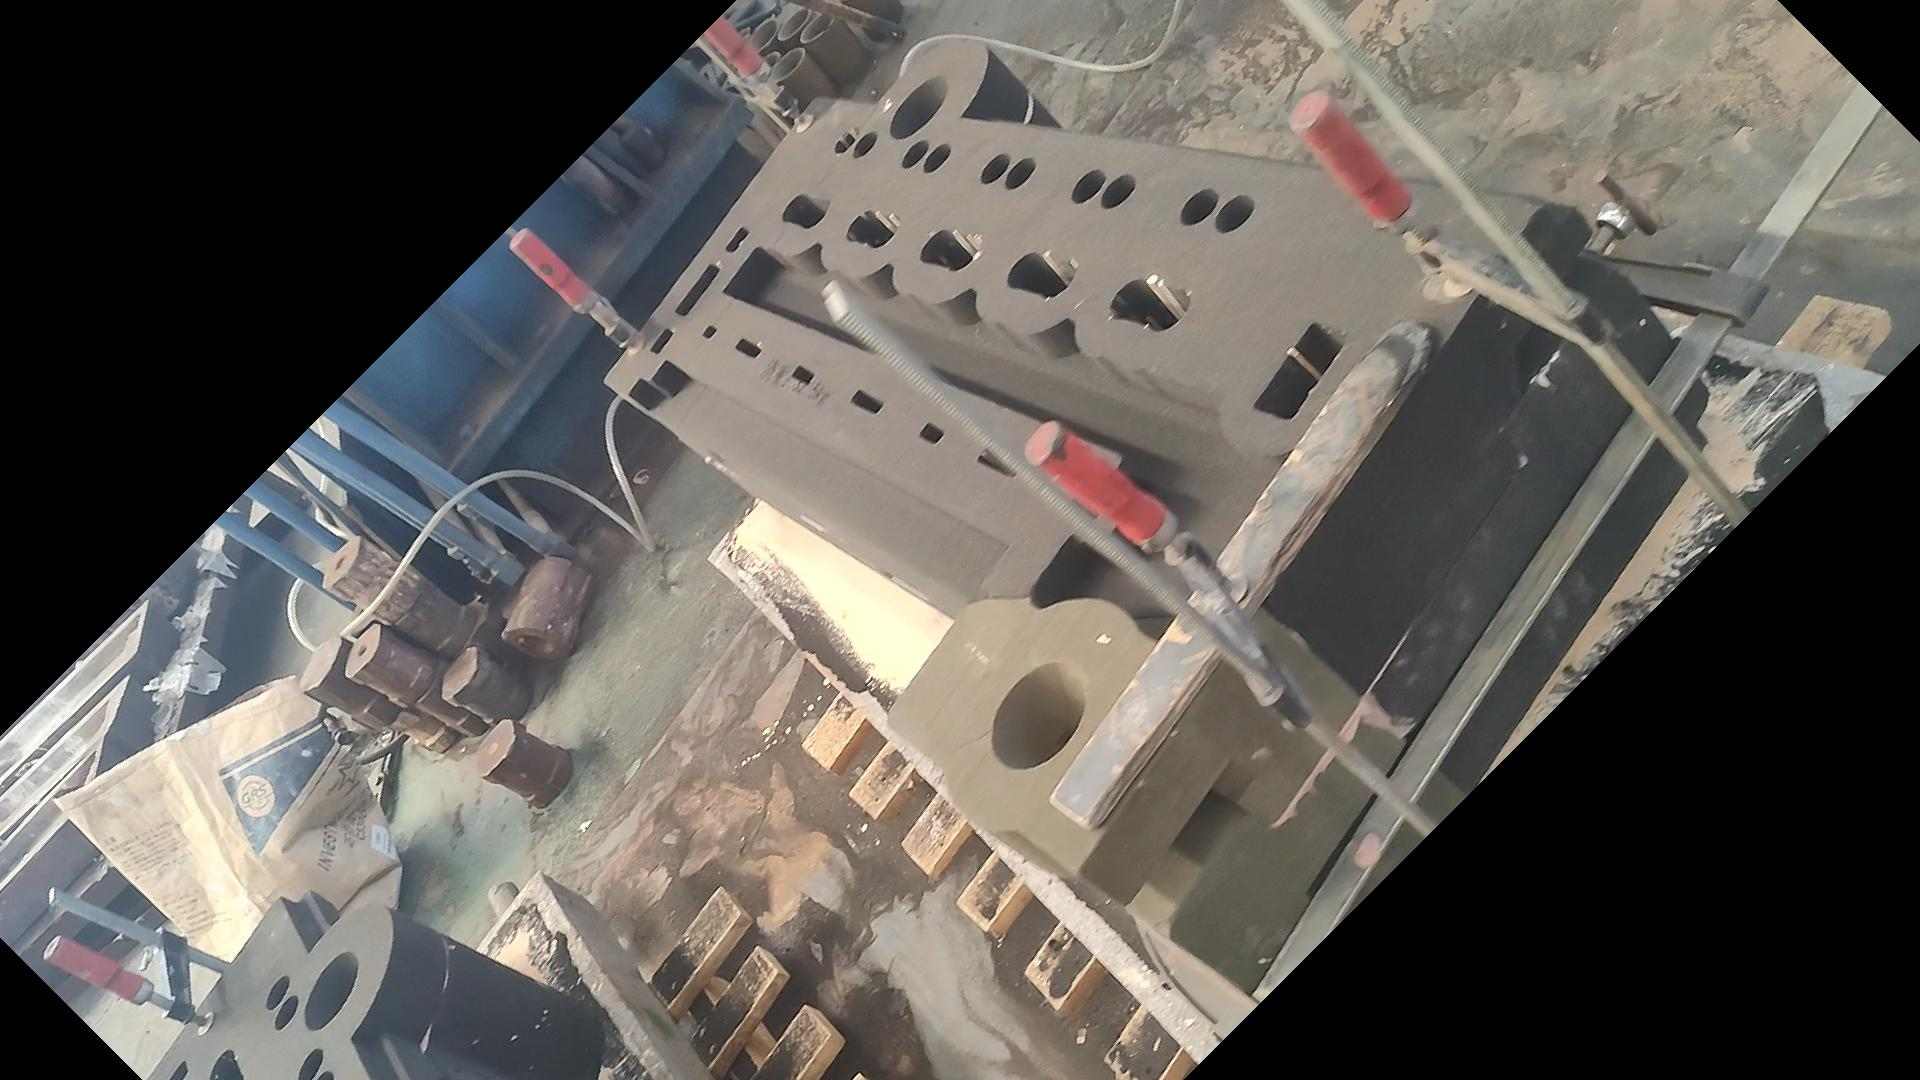pouring hole: (992, 661, 1088, 771), (302, 953, 357, 1029), (889, 75, 948, 138), (767, 47, 804, 80), (800, 9, 833, 44), (745, 18, 777, 54), (778, 8, 808, 41)
